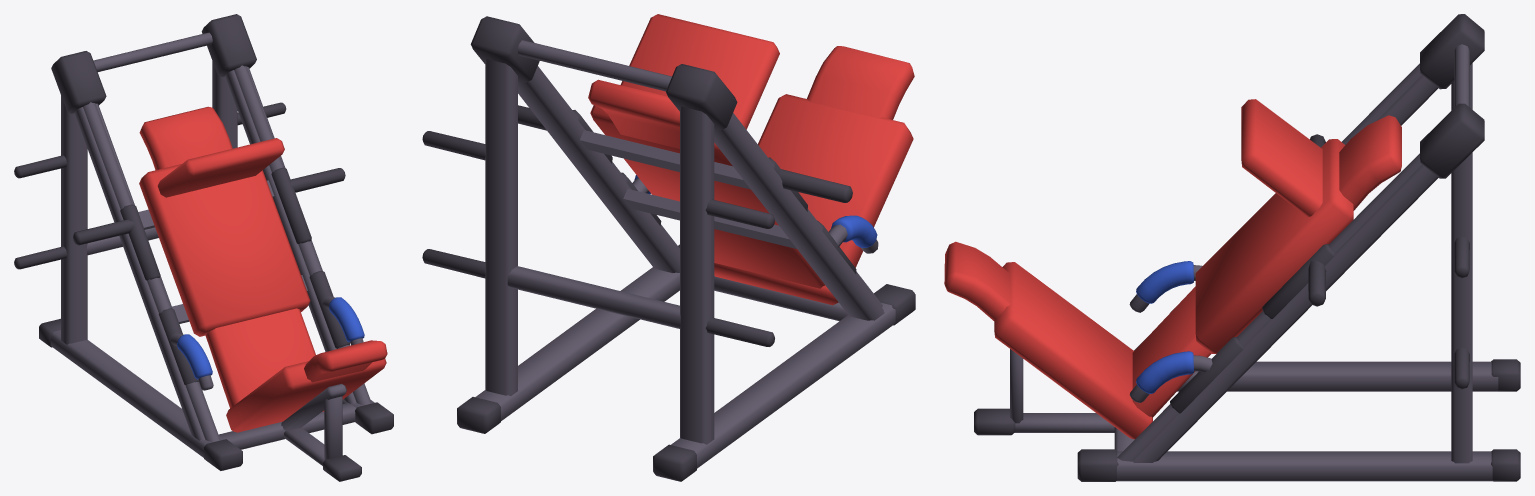
File: Leg_Press_Machine_v01.fbx
3 views of the same model, side by side, from view 1: azimuth 30°, elevation 25°; view 2: azimuth 150°, elevation 25°; view 3: azimuth 270°, elevation 25° (orthographic). The views are drawn at different scales.
Parts seen in each view (by area): view 1: Leg_Press_Machine_v01; view 2: Leg_Press_Machine_v01; view 3: Leg_Press_Machine_v01.
Boxes of the visible parts, bbox=[...] form: Leg_Press_Machine_v01: bbox=[14, 14, 393, 481]; Leg_Press_Machine_v01: bbox=[422, 14, 915, 481]; Leg_Press_Machine_v01: bbox=[944, 14, 1520, 481].
Size of the model in its own units: 1.68 by 1.79 by 2.57.
Materials: 1 (1 with a texture image).
